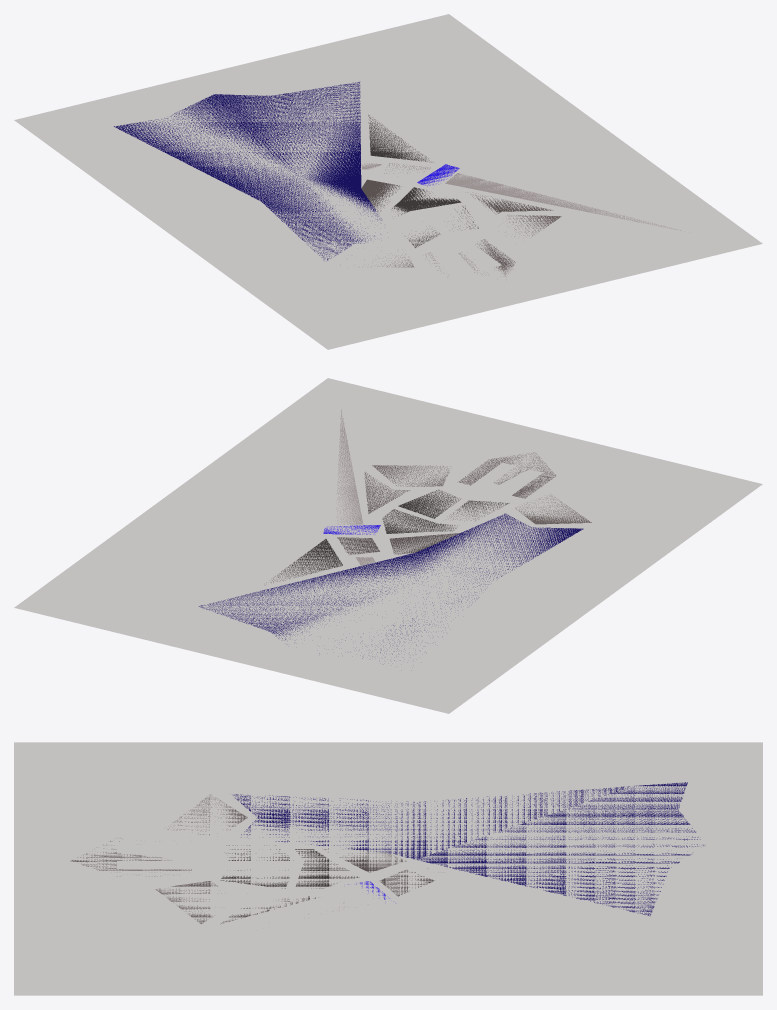
File: inv_portrait.obj
3 renders of one model, top to bottom at view 1: azimuth 30°, elevation 25°; view 2: azimuth 150°, elevation 25°; view 3: azimuth 270°, elevation 25°, orthographic. The views are drawn at different scales.
Bounding box in the file's own units: 0.5 × 0 × 0.625.
